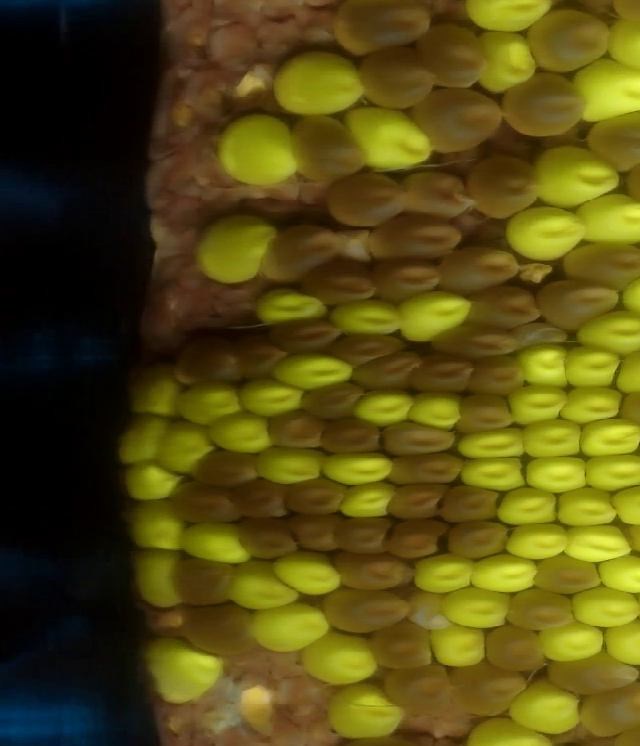fluorescent: (270, 48, 367, 119), (217, 111, 297, 190), (345, 104, 434, 175), (533, 143, 618, 211), (197, 213, 276, 283), (142, 638, 224, 704), (297, 627, 382, 688), (507, 204, 587, 262), (472, 29, 540, 97), (323, 683, 404, 739), (508, 678, 583, 737), (573, 56, 640, 122), (218, 560, 305, 608), (394, 292, 472, 345), (252, 601, 330, 653), (571, 306, 640, 359), (577, 192, 640, 250), (268, 549, 342, 596), (175, 381, 246, 427), (330, 295, 404, 339), (128, 498, 188, 551), (571, 583, 640, 629), (156, 422, 217, 474), (182, 520, 252, 565), (500, 520, 573, 562), (236, 374, 307, 417), (470, 553, 541, 596), (254, 443, 329, 483), (255, 286, 328, 327), (271, 354, 354, 390), (134, 551, 186, 608), (440, 588, 512, 629), (207, 411, 272, 456), (131, 369, 188, 420), (352, 386, 419, 429), (491, 486, 561, 527), (428, 620, 489, 667), (321, 449, 394, 487), (520, 419, 584, 462), (538, 623, 605, 664), (412, 550, 477, 592), (554, 487, 621, 527), (579, 416, 640, 459), (457, 425, 531, 460), (457, 456, 531, 491), (114, 416, 166, 465), (518, 344, 571, 391), (562, 348, 621, 390), (563, 527, 633, 562), (526, 455, 592, 492), (408, 390, 466, 432), (563, 386, 624, 424), (123, 464, 184, 502), (507, 386, 570, 420), (604, 16, 640, 74), (340, 480, 392, 520), (587, 454, 640, 491), (597, 550, 640, 595), (600, 619, 640, 666)
nonfluorescent: (410, 86, 503, 153), (523, 7, 610, 71), (291, 114, 368, 182), (466, 155, 545, 219), (414, 22, 487, 90), (500, 71, 578, 134), (334, 1, 431, 51), (358, 46, 436, 108), (323, 172, 405, 225), (175, 601, 255, 655), (452, 661, 529, 716), (321, 587, 413, 633), (383, 664, 458, 719), (535, 280, 620, 328), (394, 170, 476, 219), (262, 225, 340, 276), (562, 241, 640, 291), (547, 651, 640, 692), (365, 222, 465, 260), (436, 246, 517, 292), (466, 282, 542, 330), (368, 619, 438, 671), (579, 109, 640, 167), (172, 556, 239, 606), (573, 683, 640, 733), (373, 420, 463, 457), (172, 478, 238, 528), (172, 338, 239, 387), (508, 587, 577, 632), (483, 622, 546, 671), (305, 262, 378, 304), (383, 453, 473, 487), (335, 553, 413, 592), (533, 551, 604, 593), (376, 260, 446, 302), (357, 350, 424, 393), (430, 327, 519, 359), (408, 355, 475, 397), (436, 480, 503, 522), (266, 407, 326, 453), (192, 449, 265, 486), (298, 380, 367, 419), (236, 520, 300, 561), (234, 476, 291, 522), (335, 513, 392, 559), (383, 518, 446, 559), (271, 319, 344, 354), (456, 391, 515, 434), (442, 523, 510, 560), (284, 476, 344, 517), (329, 333, 408, 364), (320, 418, 384, 456), (467, 359, 529, 396), (386, 482, 445, 519), (235, 334, 281, 380), (293, 514, 341, 556)
